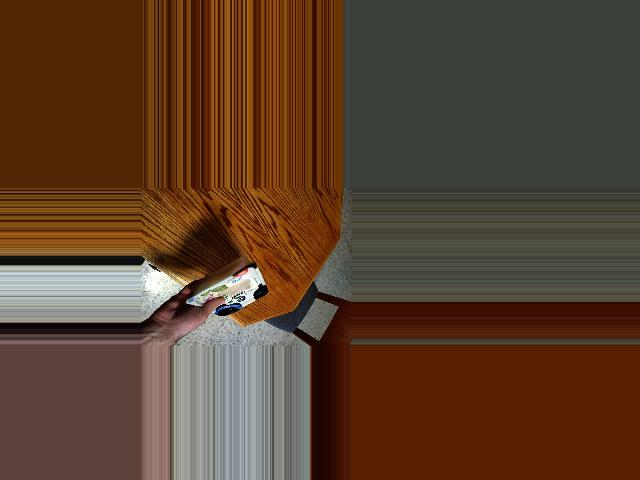cheese: (199, 249, 264, 326)
